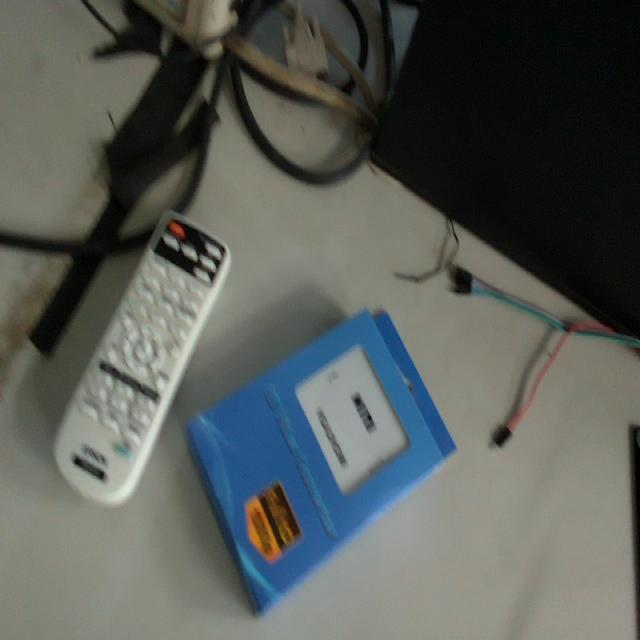remote: (192, 308, 452, 620), (59, 213, 229, 507)
